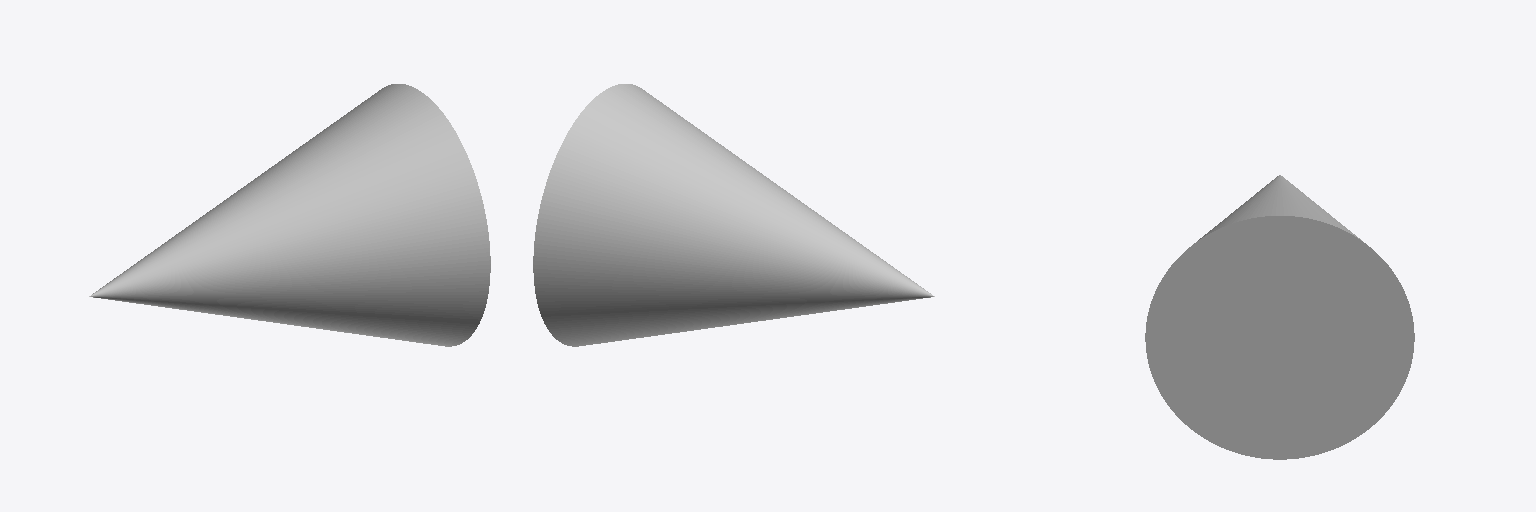
File: mid100-middle-fov.obj
The picture shows the model from 3 angles: view 1: azimuth 30°, elevation 25°; view 2: azimuth 150°, elevation 25°; view 3: azimuth 270°, elevation 25°; orthographic projection.
Parts seen in each view (by area): view 1: NONE003; view 2: NONE003; view 3: NONE003.
Part boxes in pixels (left/top/right/bottom): NONE003: left=89, top=84, right=490, bottom=346; NONE003: left=533, top=84, right=934, bottom=346; NONE003: left=1145, top=175, right=1414, bottom=459.
Size of the model in its own units: 16985 by 11830 by 11830.